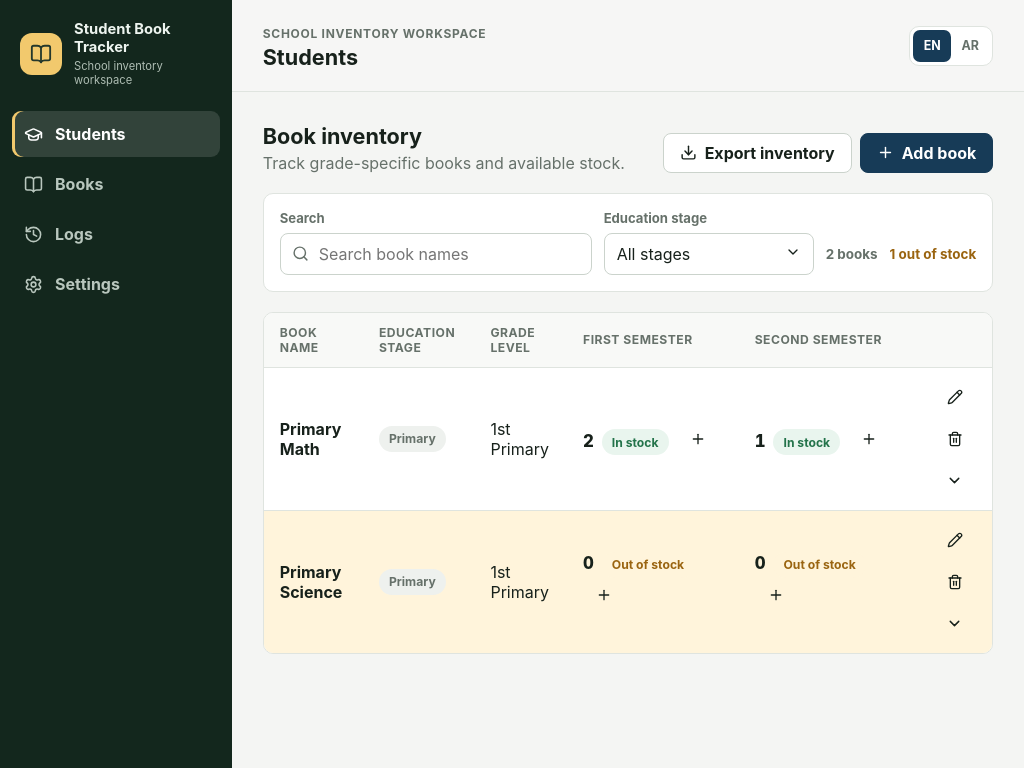
Scenario: BooksScreen › shows zero stock clearly and adds stock only once
This screenshot has width=1024, height=768.
expect the 1st text "Out of stock" is shown: met, box x1=602 y1=552 x2=694 y2=578
Click the button named "Add second semester stock to Primary Science" at (776,595), box x1=755 y1=578 x2=797 y2=612
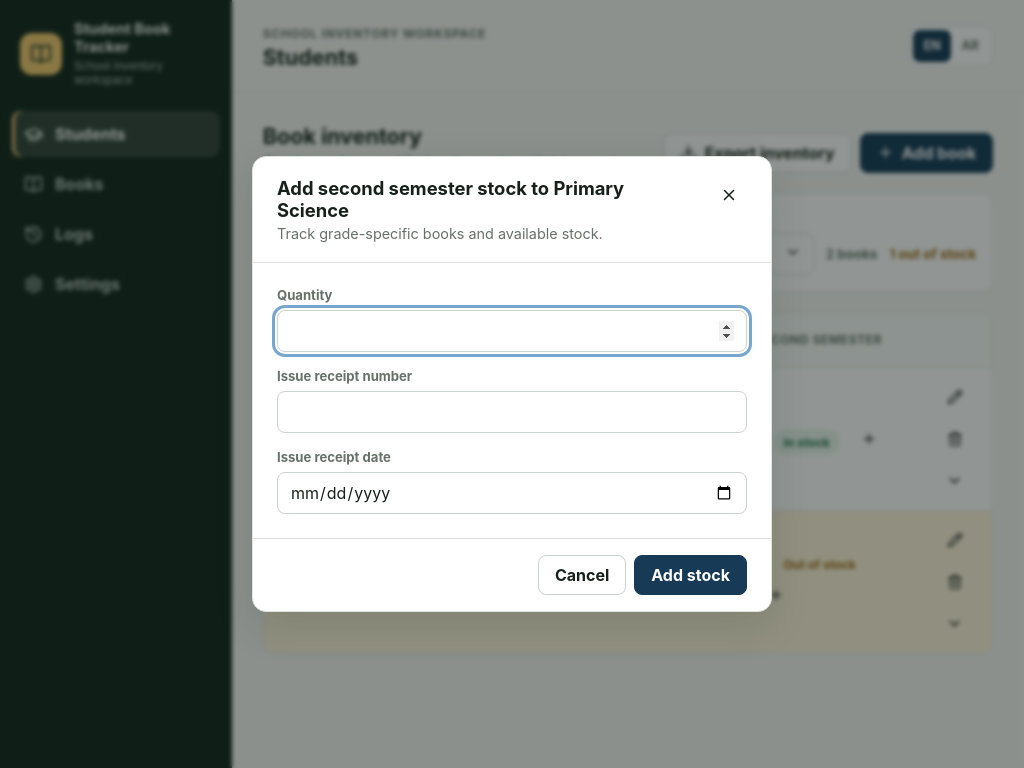
Type "3" into the number field labelled "Quantity" at (512,331), box x1=277 y1=310 x2=747 y2=352
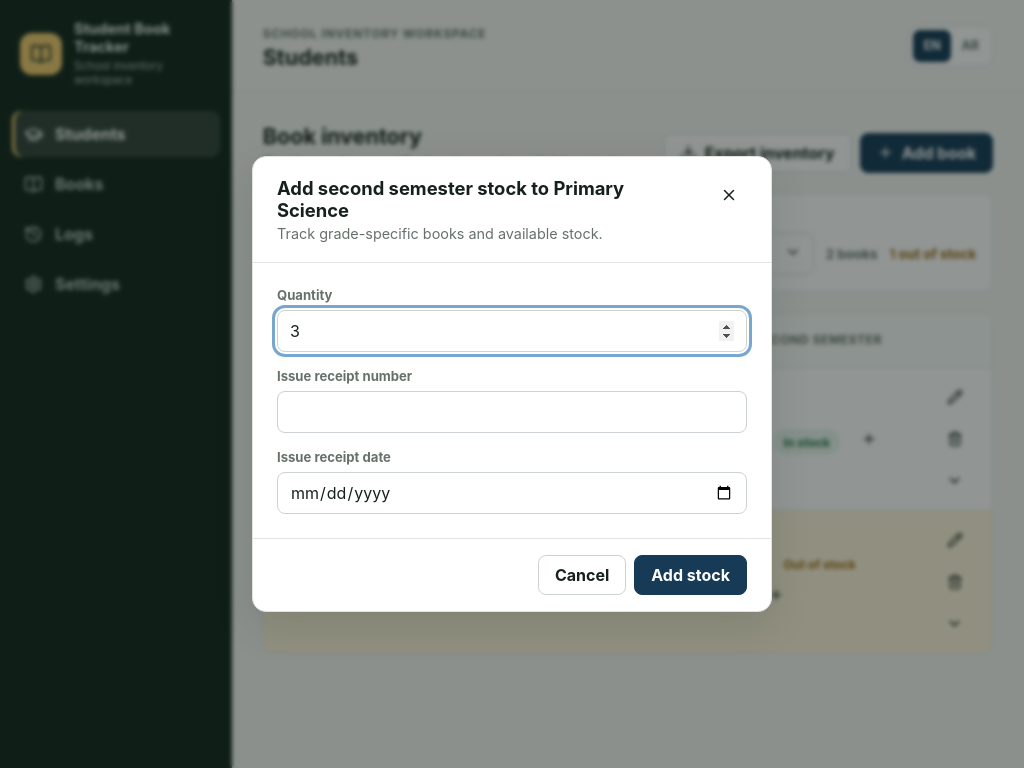
Type "00041" into the field labelled "Issue receipt number" at (512,412), box x1=277 y1=391 x2=747 y2=433
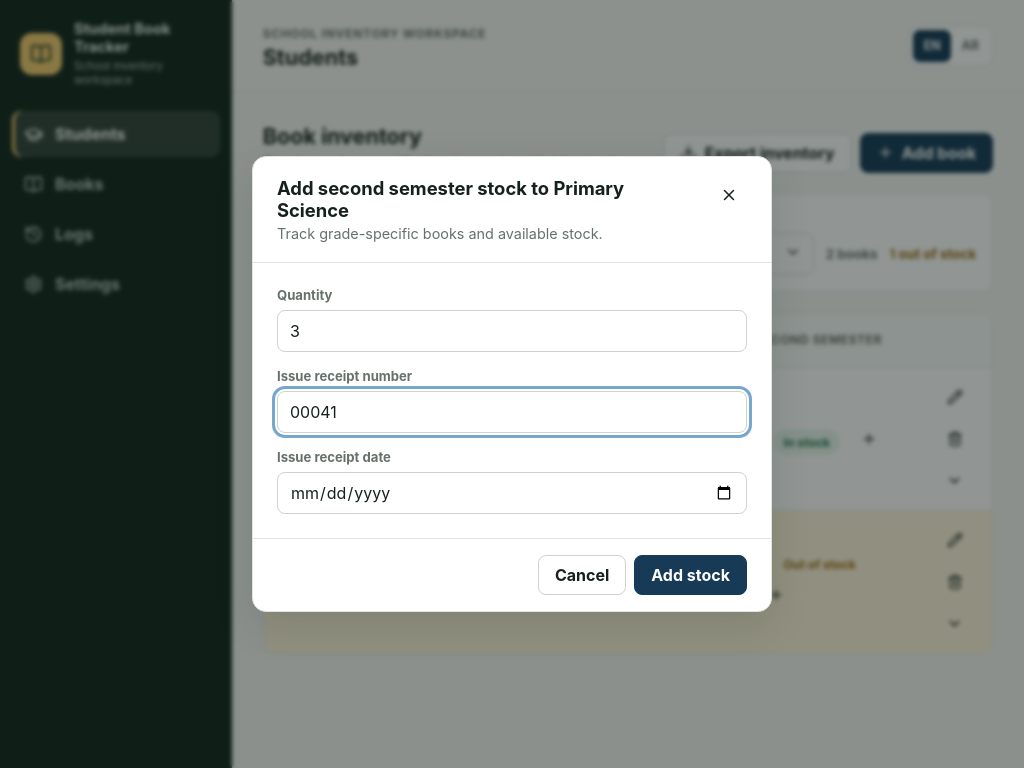
Type "2026-01-14" into the date field labelled "Issue receipt date" at (512,493), box x1=277 y1=472 x2=747 y2=514
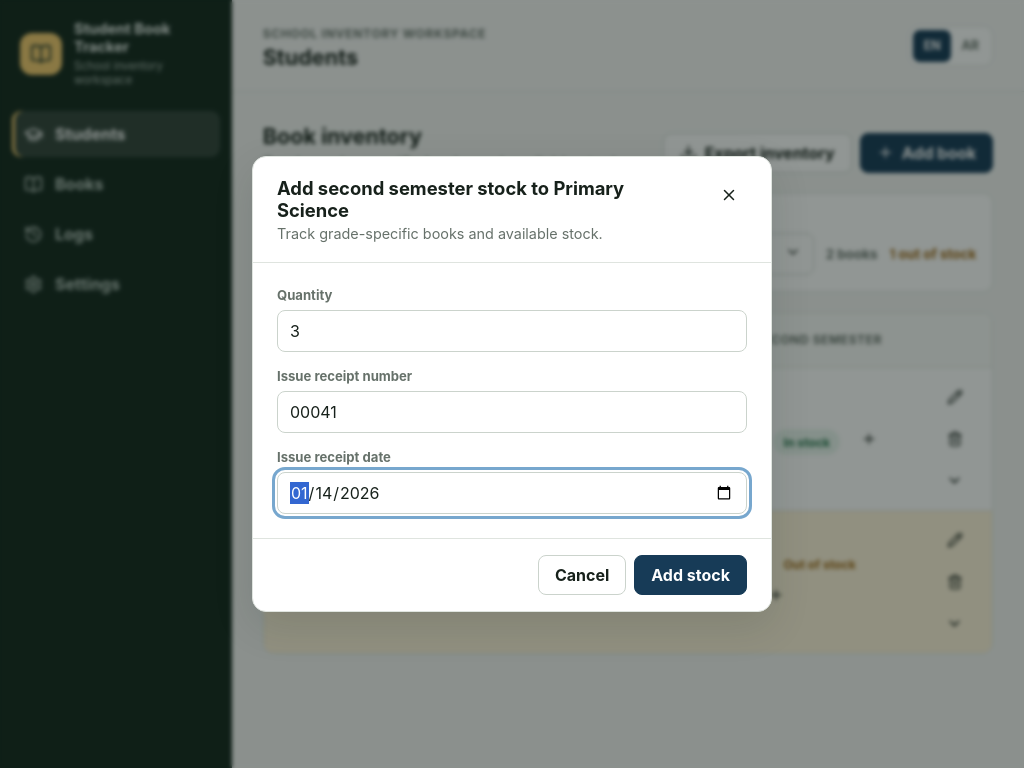
Double-click the button "Add stock" at (691,575), box x1=634 y1=555 x2=747 y2=595
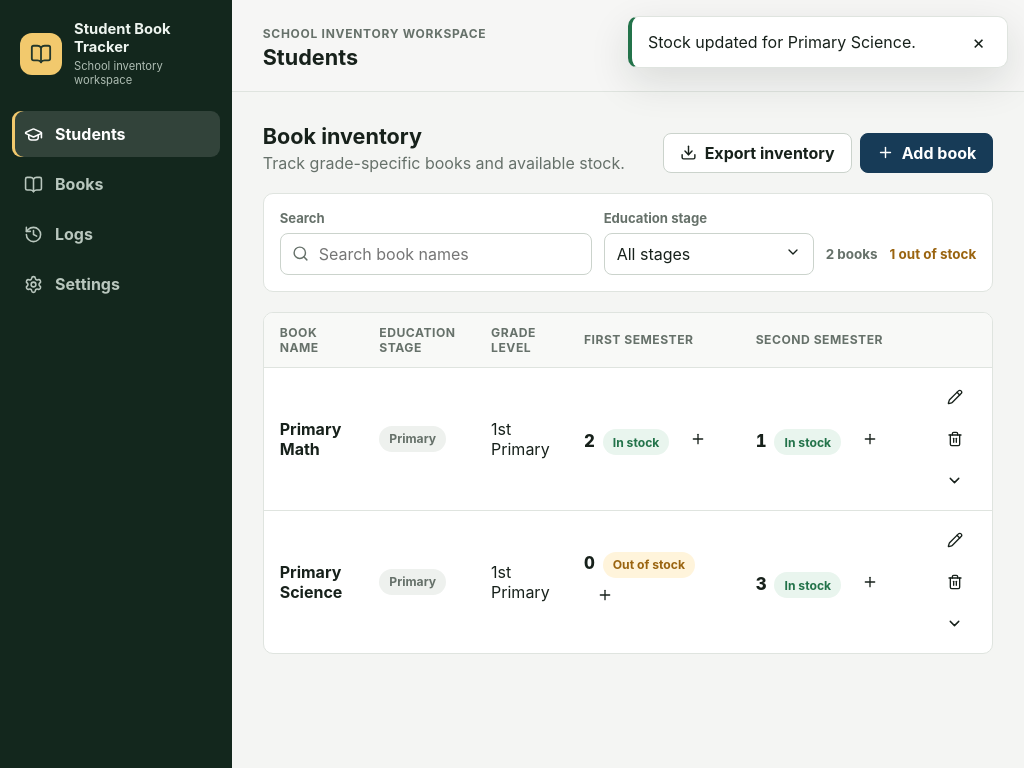
expect the text "3" is shown: met, box x1=756 y1=574 x2=766 y2=594
